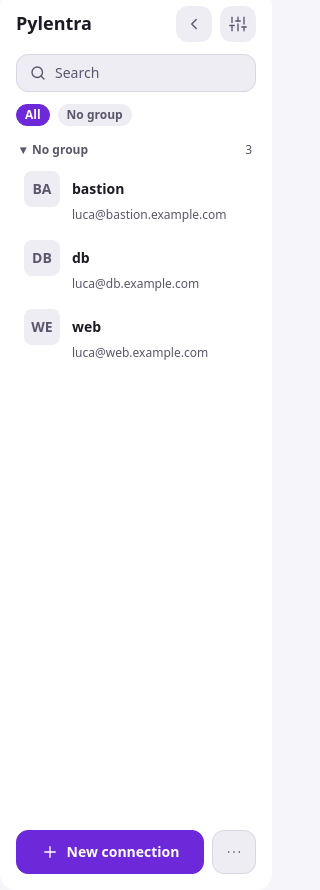
search filters list
Expected: the number of options is 3, [24,171,226,223]; [24,240,199,292]; [24,309,208,361]
Type "bast" into the field labelled "Search" at (149, 73), box [55,55,243,91]
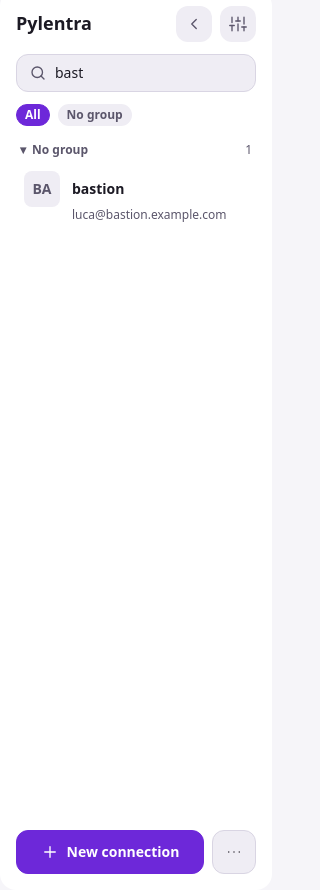
Expected: the option shows "bastion", [24,171,226,223]
Expected: the number of options is 1, [24,171,226,223]
